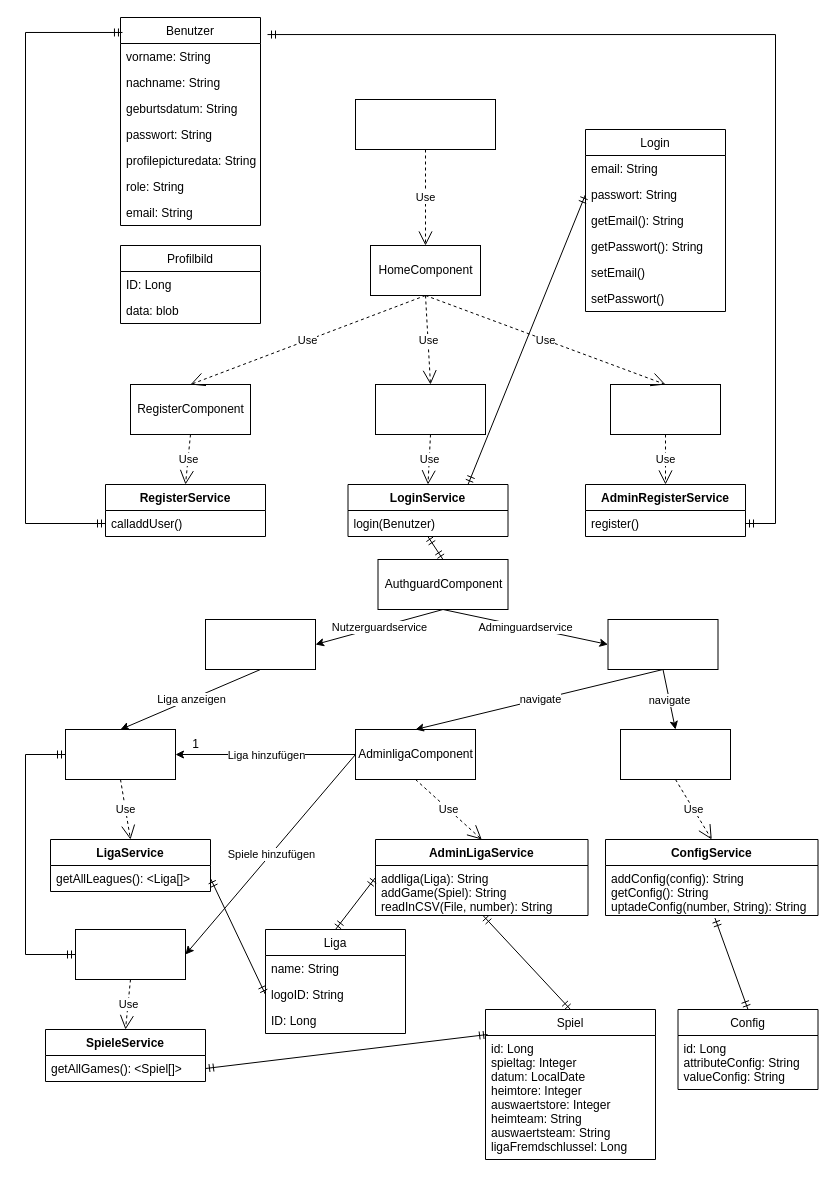
Some shapes in this 836 by 1180 pixel diagram are drawn without their labels. The centre of each missing label's shape, as x and y in pixels:
AdminComponent: the point at 662,644
AdminRegister Component: the point at 665,409
AppRoutingComponent: the point at 425,124
ConfigComponent: the point at 675,754
LigaComponent: the point at 120,754
LoginComponent: the point at 430,409
NutzerComponent: the point at 260,644
SpieleComponent: the point at 130,954
